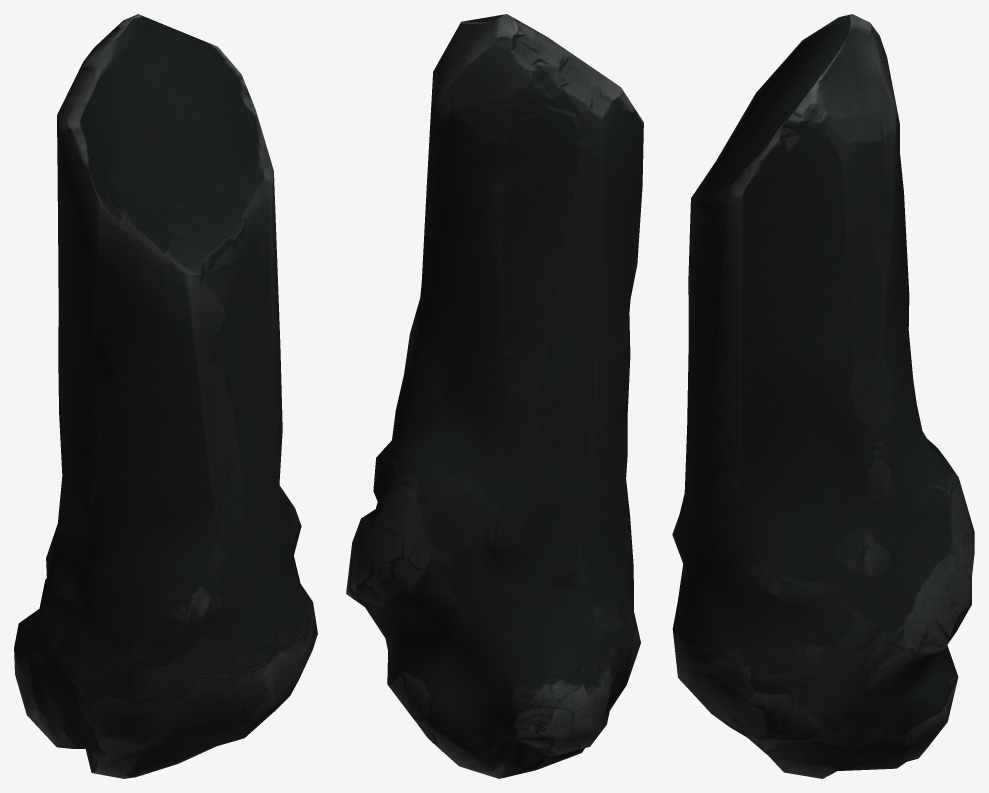
File: pillarShortObelisk.fbx
The picture shows the model from 3 angles, left to right: view 1: azimuth 30°, elevation 25°; view 2: azimuth 150°, elevation 25°; view 3: azimuth 270°, elevation 25°; orthographic projection.
Visible parts, largest first — view 1: shortObelisk; view 2: shortObelisk; view 3: shortObelisk.
Boxes of the visible parts, x1,y1,x2,y2 form: shortObelisk: [14, 14, 317, 778]; shortObelisk: [346, 14, 643, 778]; shortObelisk: [672, 14, 974, 778].
Bounding box in the file's own units: 24.19 × 70.82 × 25.89.
